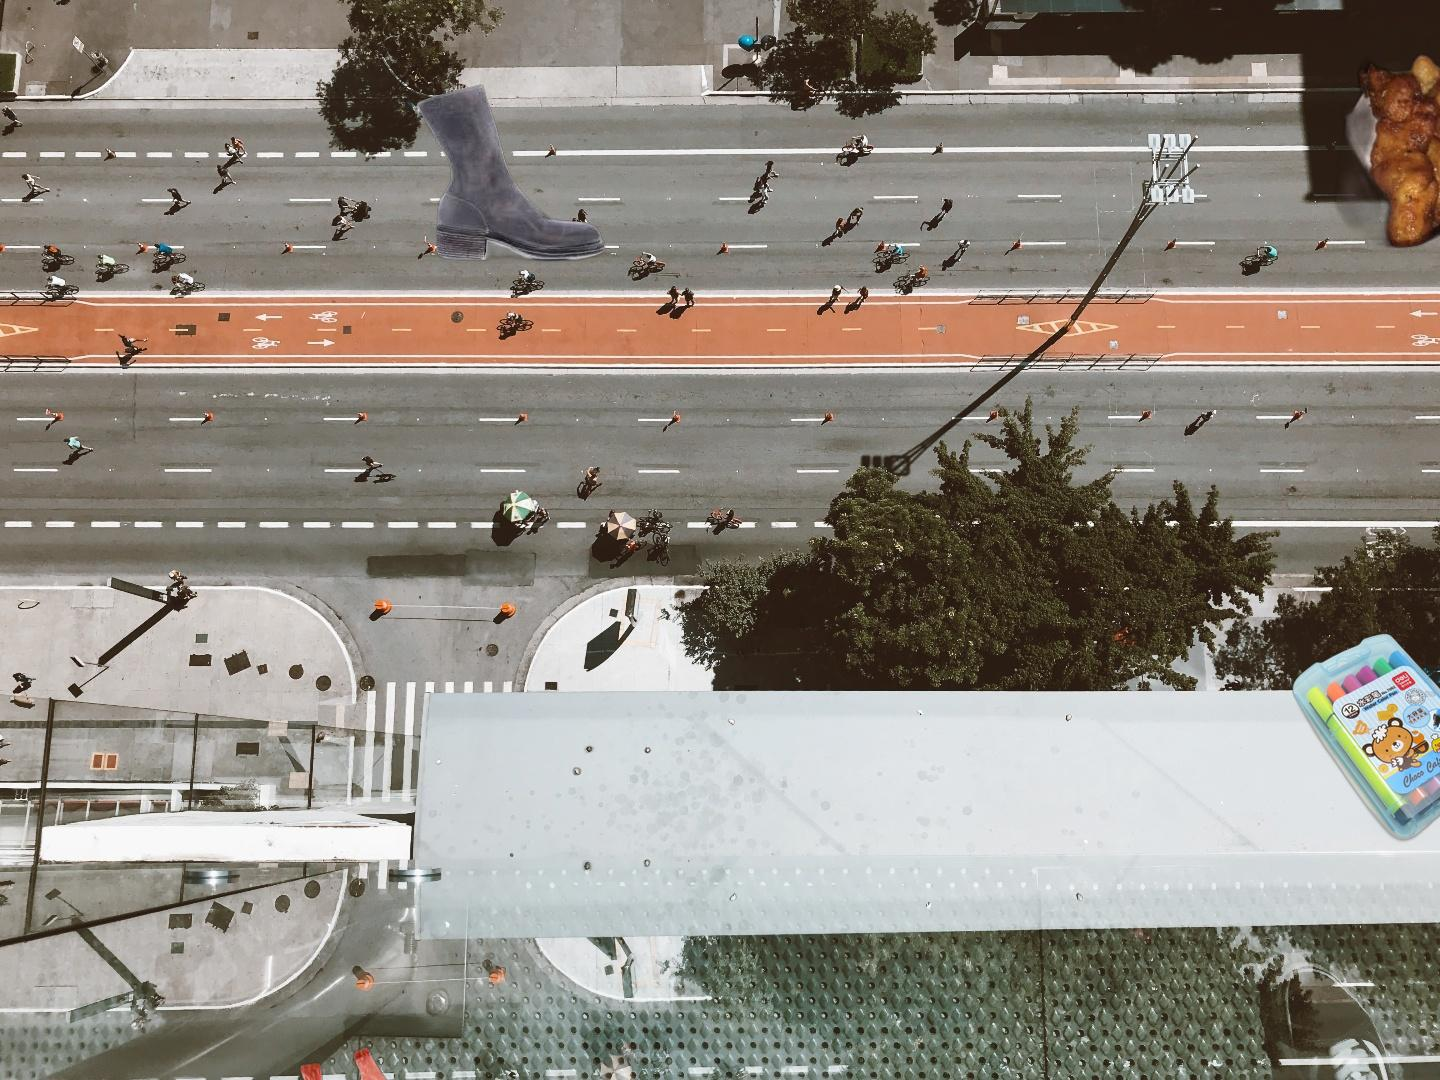biological: (1330, 50, 1440, 368)
penholder: (1289, 632, 1440, 845)
plastic-bag: (297, 1045, 437, 1080)
shoes: (413, 82, 607, 264)
